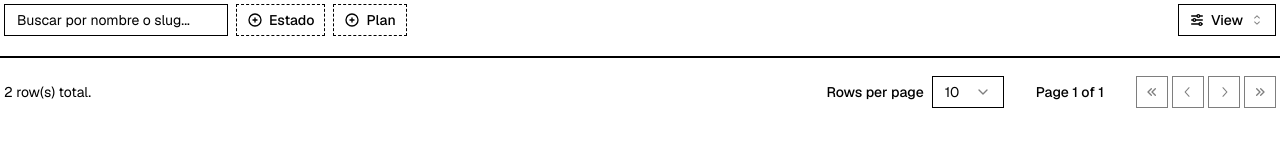
TenantsTable — toolbar › shows a reset control once a filter is active
The width and height of the screenshot is (1280, 160).
Step 1. Type "Beta" into the field with placeholder "Buscar por nombre o slug..." → (116, 20), box [4,4,228,36]
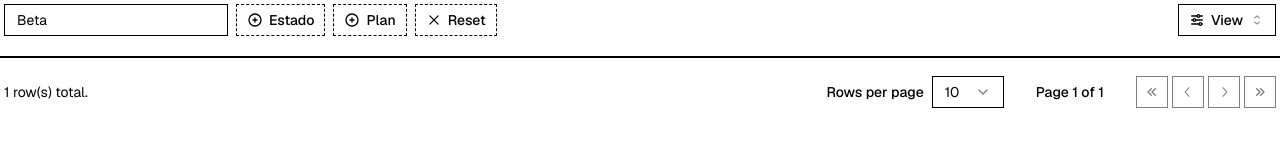
Check: the button with aria-label "Reset filters" is shown, box [415,4,497,36]
